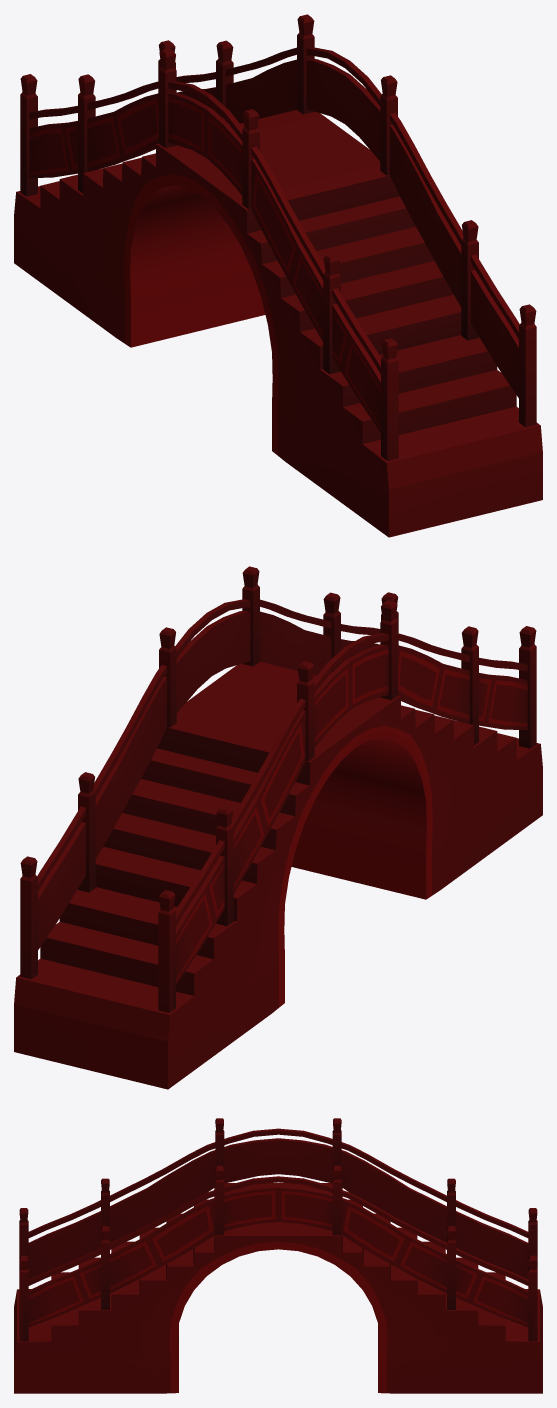
The model's file is MoonBridge.glb.
3 views of the same model, one above another, from view 1: azimuth 30°, elevation 25°; view 2: azimuth 150°, elevation 25°; view 3: azimuth 270°, elevation 25° (orthographic). The views are drawn at different scales.
Visible parts, largest first — view 1: MoonBridge; view 2: MoonBridge; view 3: MoonBridge.
Boxes of the visible parts, bbox=[...] form: MoonBridge: bbox=[14, 14, 542, 537]; MoonBridge: bbox=[14, 566, 542, 1089]; MoonBridge: bbox=[14, 1118, 542, 1393].
Bounding box in the file's own units: 27.58 × 54.29 × 116.
